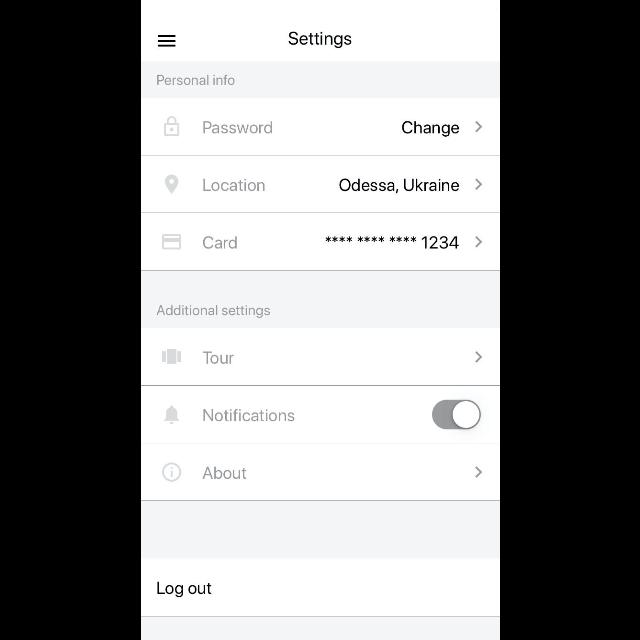icon: (162, 462, 180, 482), (163, 405, 179, 425), (161, 234, 181, 250), (164, 116, 178, 138), (165, 174, 178, 193), (158, 36, 176, 46), (474, 466, 482, 478), (474, 178, 482, 190), (474, 236, 482, 248), (473, 352, 482, 362), (474, 121, 482, 132)
image: (161, 350, 181, 364)
switch: (432, 400, 481, 430)
text: (338, 179, 459, 195), (325, 237, 459, 250), (154, 305, 270, 319), (203, 408, 295, 422), (288, 32, 352, 48), (202, 120, 272, 134), (156, 74, 234, 86), (401, 121, 459, 137), (154, 580, 210, 596), (203, 178, 265, 192), (202, 466, 246, 479), (200, 351, 233, 365), (202, 237, 236, 250)
